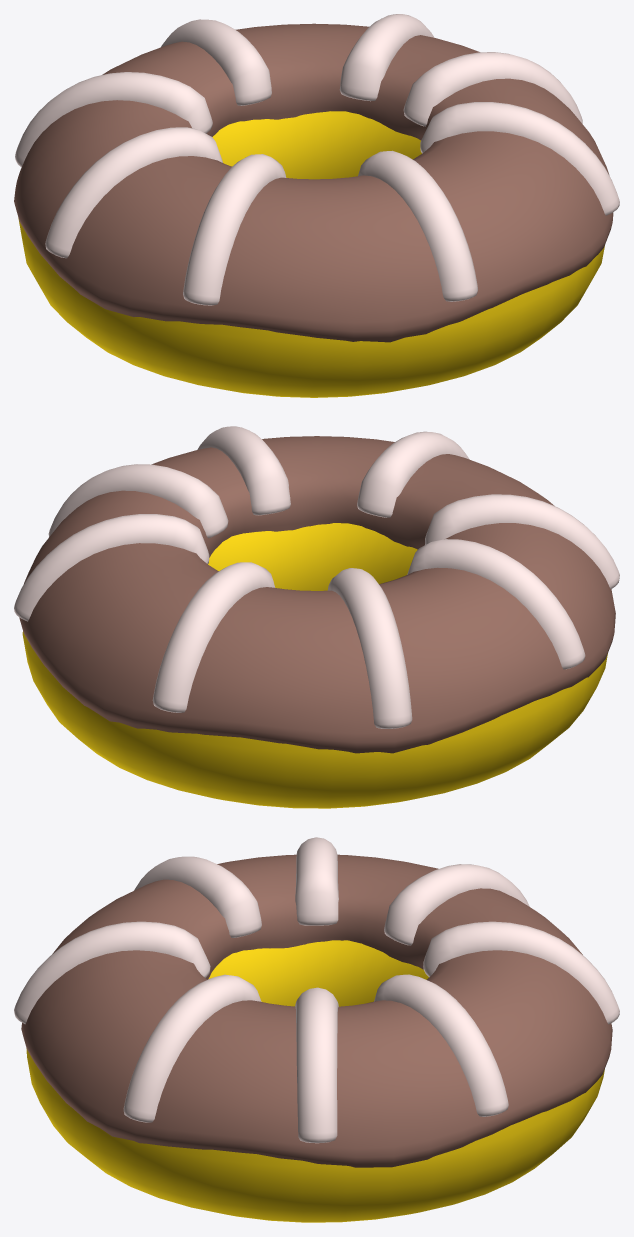
Rendered from Store_14_Donut_3.glb.
3 views of the same model, one above another, from view 1: azimuth 30°, elevation 25°; view 2: azimuth 150°, elevation 25°; view 3: azimuth 270°, elevation 25° (orthographic).
Parts seen in each view (by area): view 1: Store_14_Donut_3; view 2: Store_14_Donut_3; view 3: Store_14_Donut_3.
Part boxes in pixels (box(x1,y1,x2,y2)): Store_14_Donut_3: box(14, 14, 619, 397); Store_14_Donut_3: box(14, 426, 619, 808); Store_14_Donut_3: box(14, 837, 619, 1222).
Bounding box in the file's own units: 3.21 × 1.22 × 3.21.
Materials: 1 (1 with a texture image).
